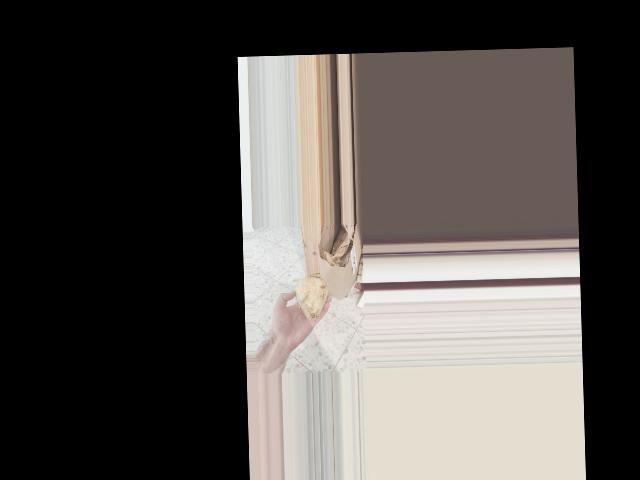onion: (293, 273, 330, 323)
